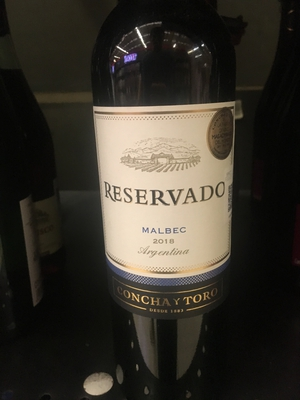reservado malbec: (83, 7, 248, 385)
